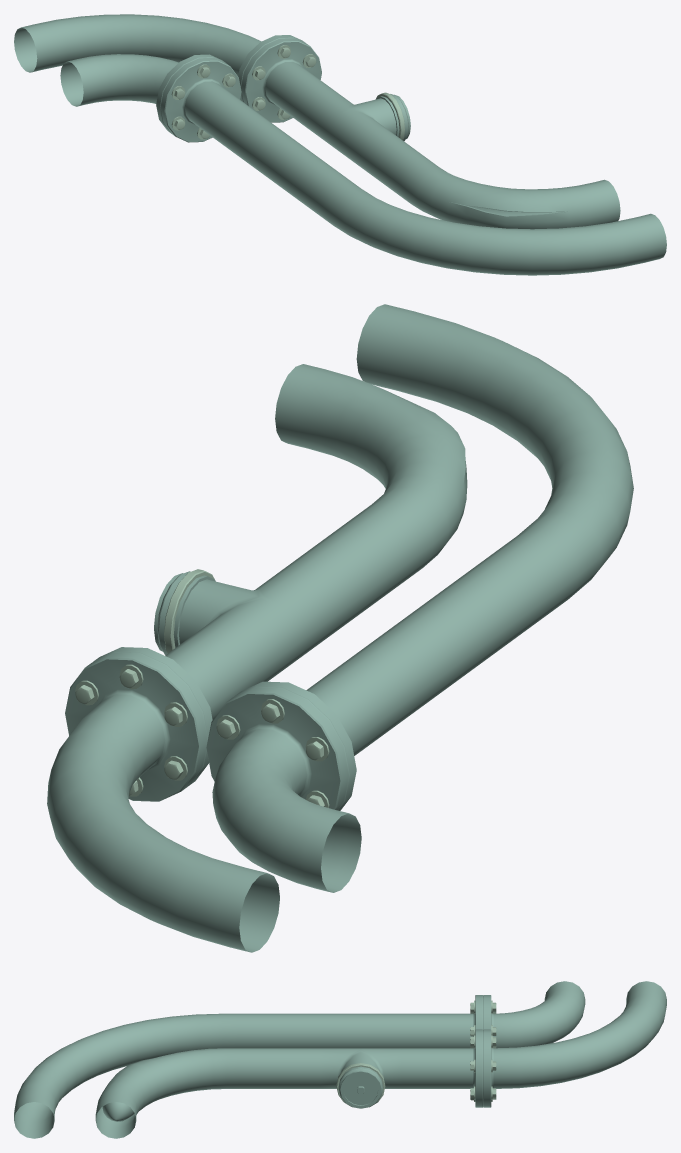
Rendered from PipeComplexLarge_A3_20.fbx.
The picture shows the model from 3 angles, top to bottom: view 1: azimuth 30°, elevation 25°; view 2: azimuth 150°, elevation 25°; view 3: azimuth 270°, elevation 25°; orthographic projection. The views are drawn at different scales.
Visible parts, largest first — view 1: PipeComplexLarge_A3_20.001; view 2: PipeComplexLarge_A3_20.001; view 3: PipeComplexLarge_A3_20.001.
Part boxes in pixels (box(x1,y1,x2,y2)): PipeComplexLarge_A3_20.001: box(14, 14, 666, 275); PipeComplexLarge_A3_20.001: box(47, 304, 633, 952); PipeComplexLarge_A3_20.001: box(14, 981, 666, 1138).
Bounding box in the file's own units: 1.4 × 0.3846 × 3.2.
